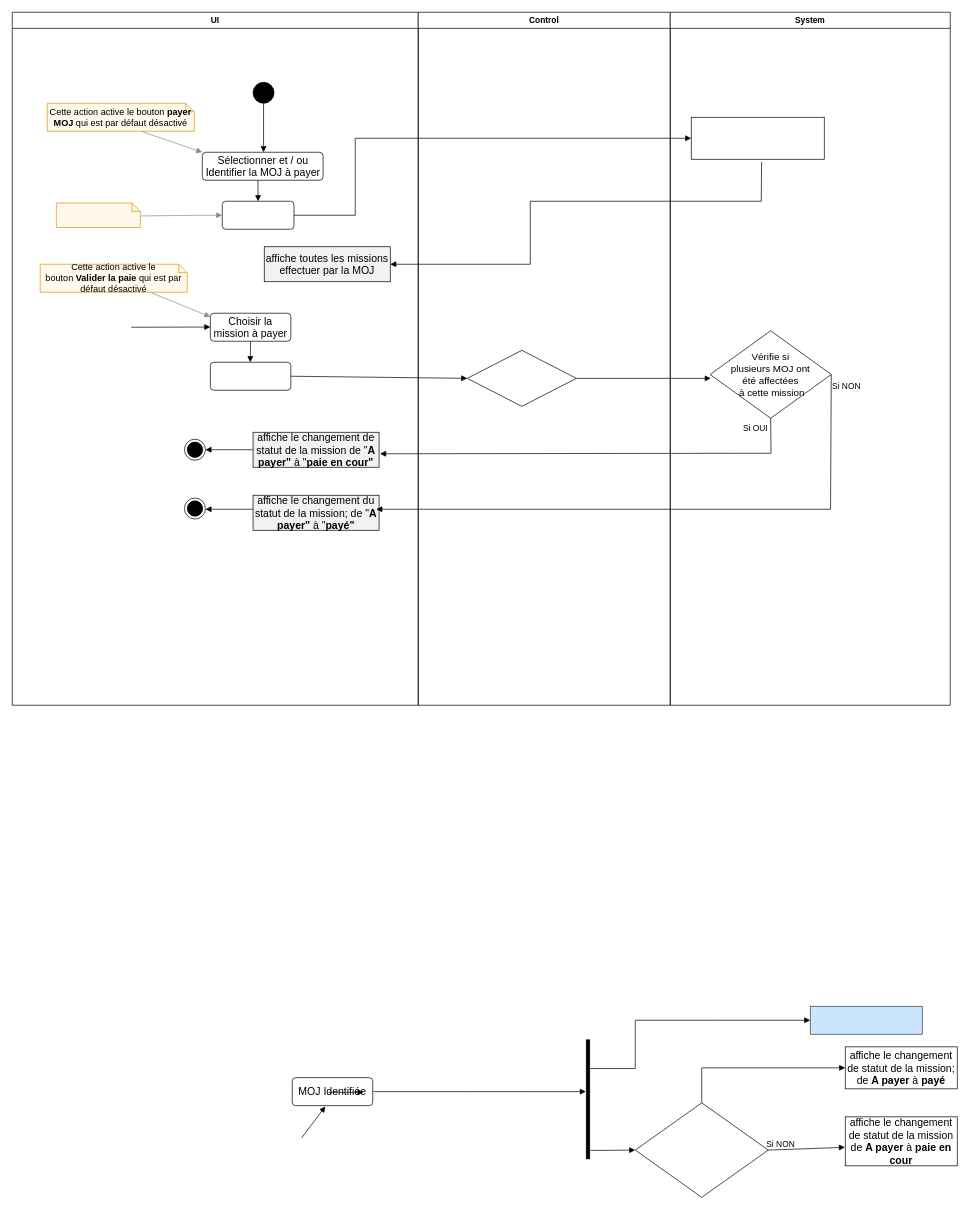
Some shapes in this 970 by 1210 pixel diagram are drawn without their labels. The centre of each missing label's shape, as x and y in pixels:
"affiche message de succès" belongs at pixel 866 1020.
"Bouton désactiver par défaut" belongs at pixel 98 214.
"Confirmation ?" belongs at pixel 521 378.
"le system vérifie si plusieurs MOJ ont été affectées a cette mission" belongs at pixel 701 1149.
"Payer MOJ" belongs at pixel 258 215.
"Récupère la liste des missions a payer pour la MOJ choisie" belongs at pixel 757 138.
"Valider la paie" belongs at pixel 250 376.
